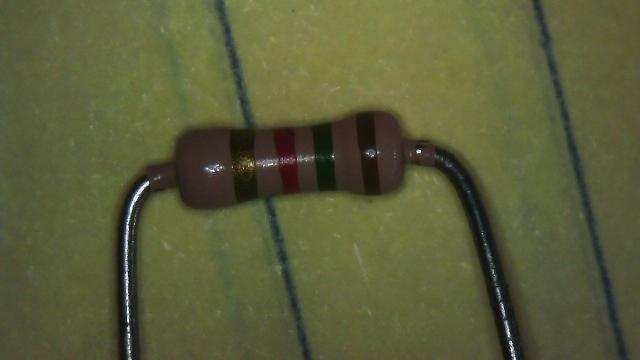brown: (356, 112, 380, 196)
gold: (231, 128, 256, 204)
green: (314, 121, 336, 192)
red: (275, 127, 298, 192)
resistor: (157, 94, 427, 216)
